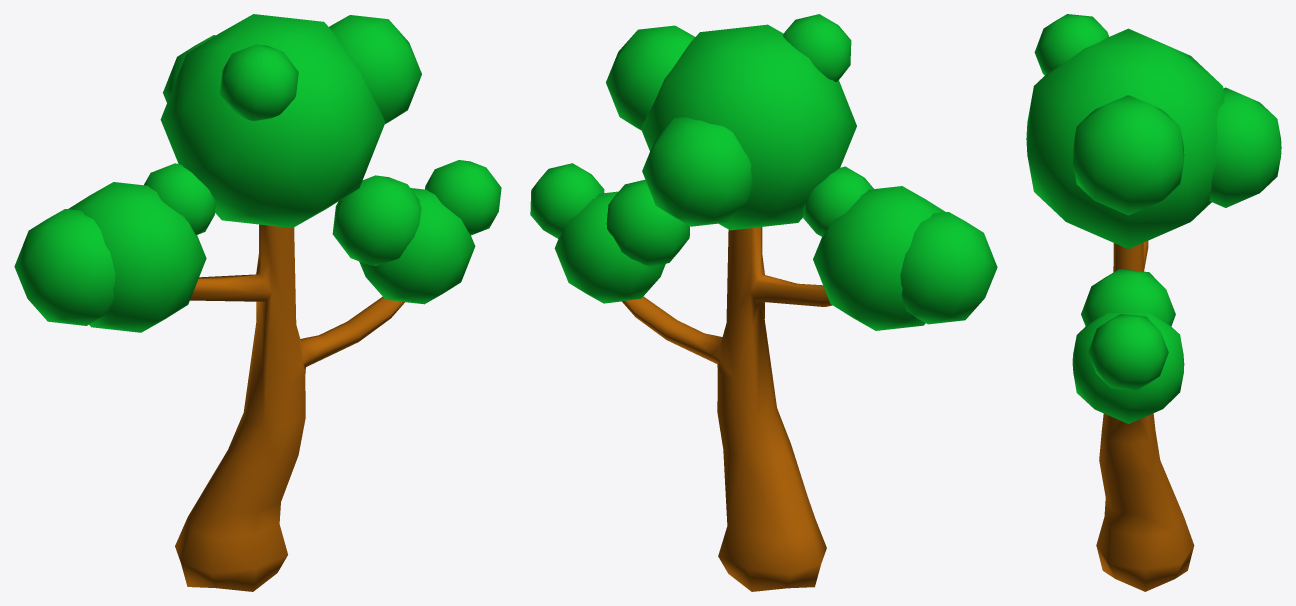
Rendered from Arbol-2.fbx.
3 renders of one model, left to right at view 1: azimuth 30°, elevation 25°; view 2: azimuth 150°, elevation 25°; view 3: azimuth 270°, elevation 25°, orthographic. The views are drawn at different scales.
Visible parts, largest first — view 1: pSolid11; view 2: pSolid11, pSolid9; view 3: pSolid11, pSolid9.
Boxes of the visible parts, left/top/right/bottom form: pSolid11: left=14, top=14, right=501, bottom=591; pSolid11: left=530, top=14, right=997, bottom=591; pSolid9: left=642, top=117, right=752, bottom=226; pSolid11: left=1026, top=14, right=1224, bottom=591; pSolid9: left=1209, top=87, right=1281, bottom=207.
Size of the model in its own units: 7.16 by 8.26 by 3.42.
